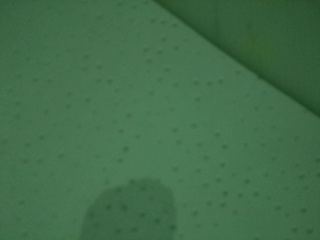Water_detected: (88, 180, 162, 240)
